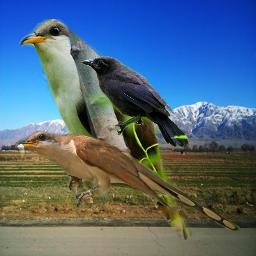Crow: (81, 56, 189, 148)
Cuckoo: (14, 19, 199, 241), (11, 130, 241, 232)
